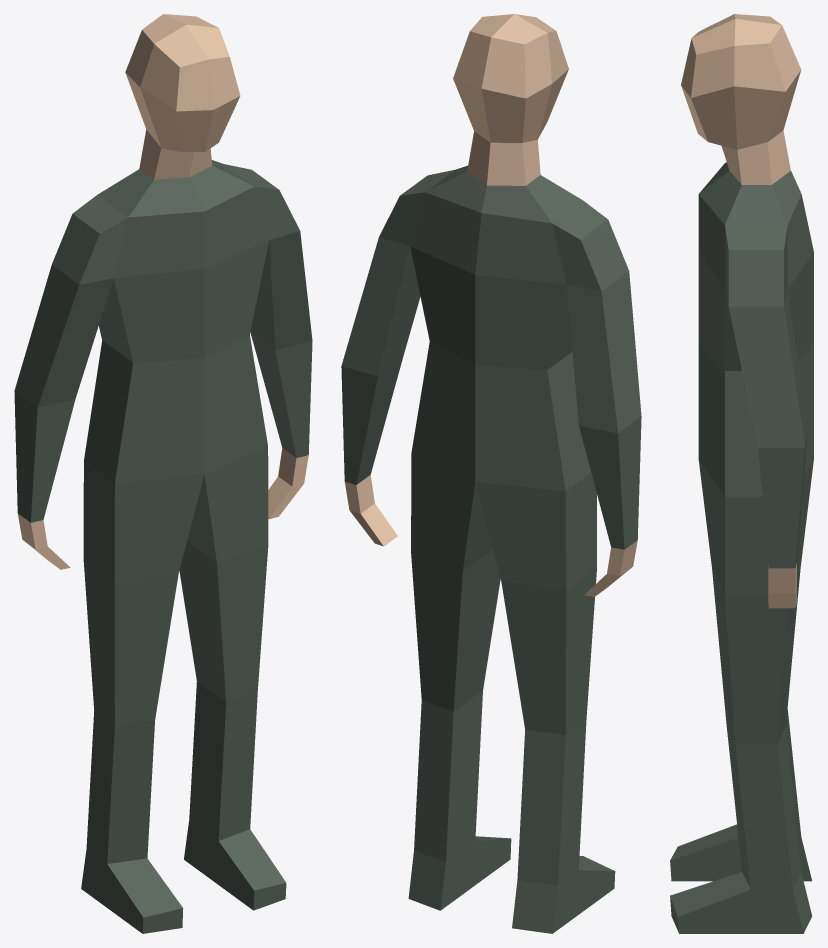
The model's file is Garde.fbx.
The picture shows the model from 3 angles, left to right: view 1: azimuth 30°, elevation 25°; view 2: azimuth 150°, elevation 25°; view 3: azimuth 270°, elevation 25°; orthographic projection.
Parts seen in each view (by area): view 1: pCube2; view 2: pCube2; view 3: pCube2.
Boxes of the visible parts, box(x1,y1,x2,y2) form: pCube2: box(14, 14, 312, 933); pCube2: box(341, 14, 641, 933); pCube2: box(670, 14, 813, 933).
Bounding box in the file's own units: 59.84 × 179 × 26.57.
